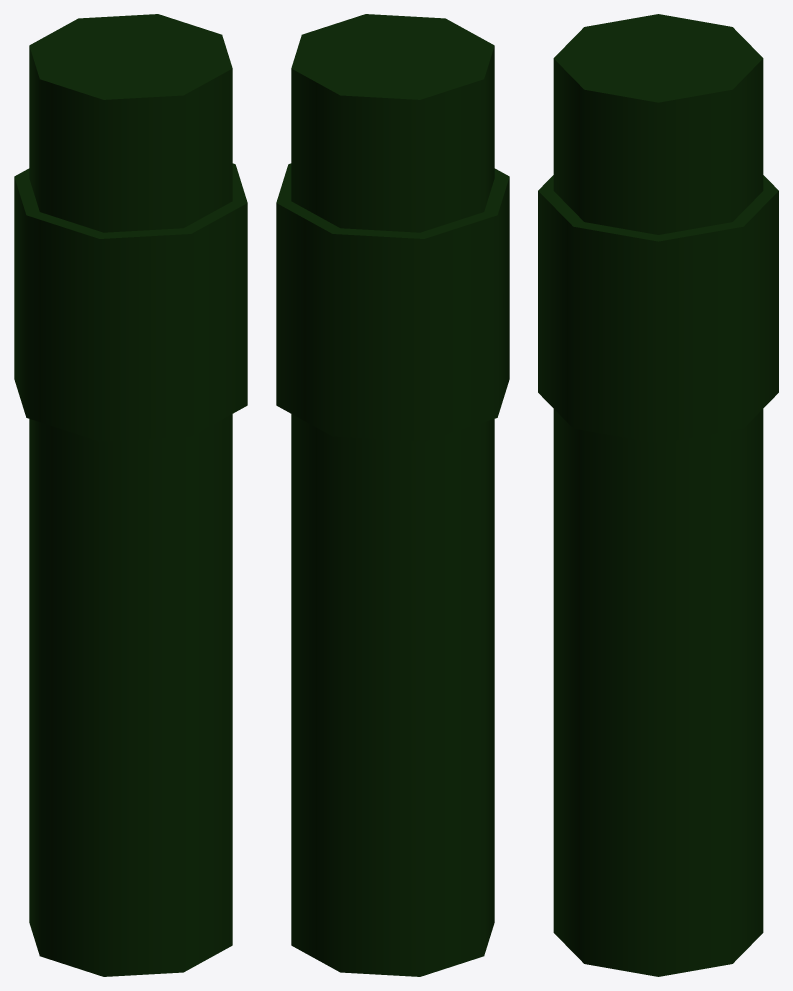
File: round-tower-2.fbx
3 renders of one model, left to right at view 1: azimuth 30°, elevation 25°; view 2: azimuth 150°, elevation 25°; view 3: azimuth 270°, elevation 25°, orthographic.
Visible parts, largest first — view 1: round-tower-2; view 2: round-tower-2; view 3: round-tower-2.
Part boxes in pixels (box(x1,y1,x2,y2)): round-tower-2: box(14, 14, 247, 976); round-tower-2: box(276, 14, 509, 976); round-tower-2: box(538, 14, 778, 976).
Size of the model in its own units: 3.73 by 14.92 by 3.73.
